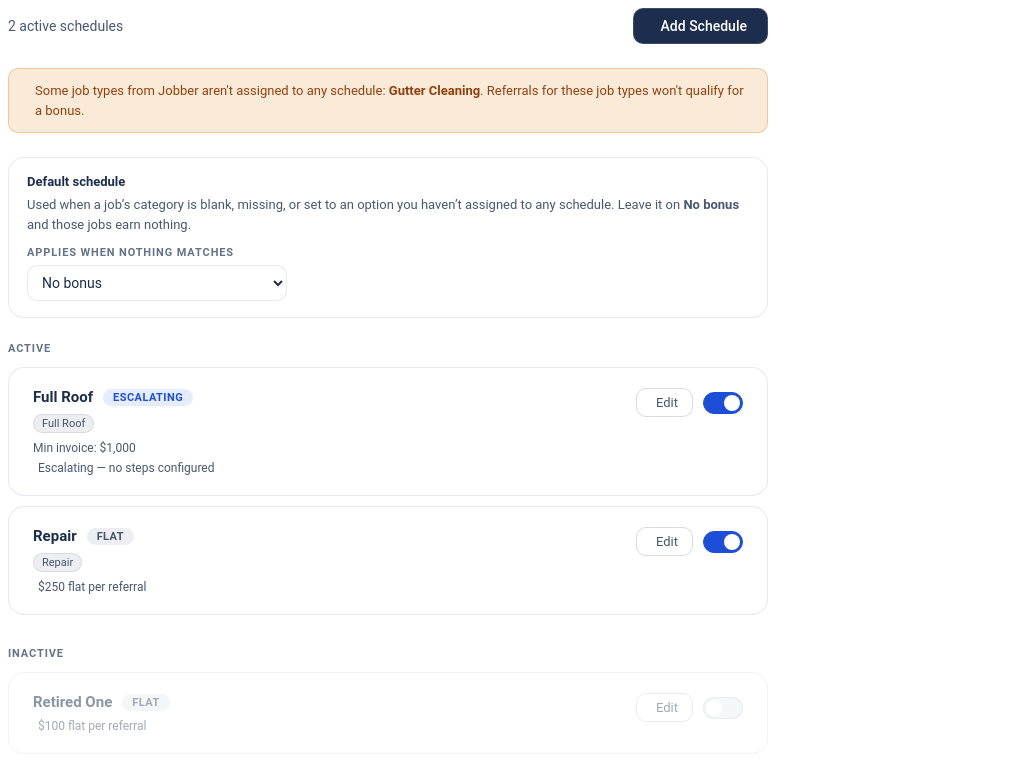
Test: 7c-3 — the control a contractor sees › A FAILED SAVE SAYS SO AND DOES NOT MOVE THE VALUE
Expected: the text "Default schedule" is shown, [27, 174, 125, 189]
Select "Full Roof" in the dropdown labelled "Applies when nothing matches" at (157, 283), box [27, 265, 287, 301]
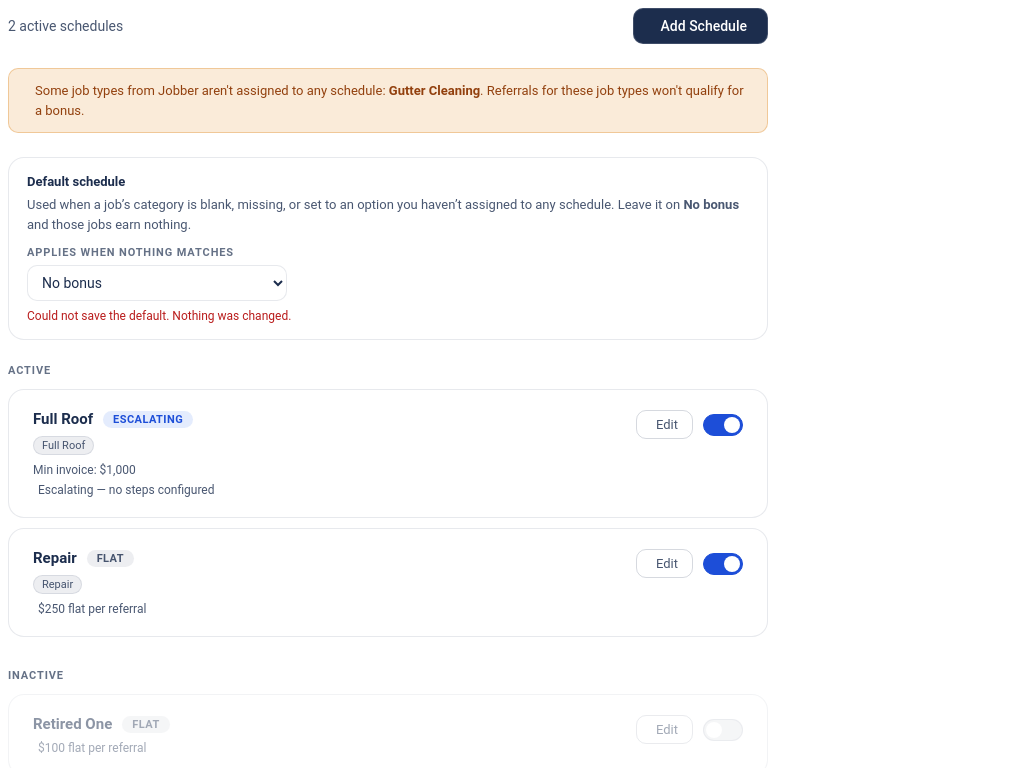
Result: the element that starts with "Default schedule" shows "Nothing was changed" at [27, 309, 291, 323]
